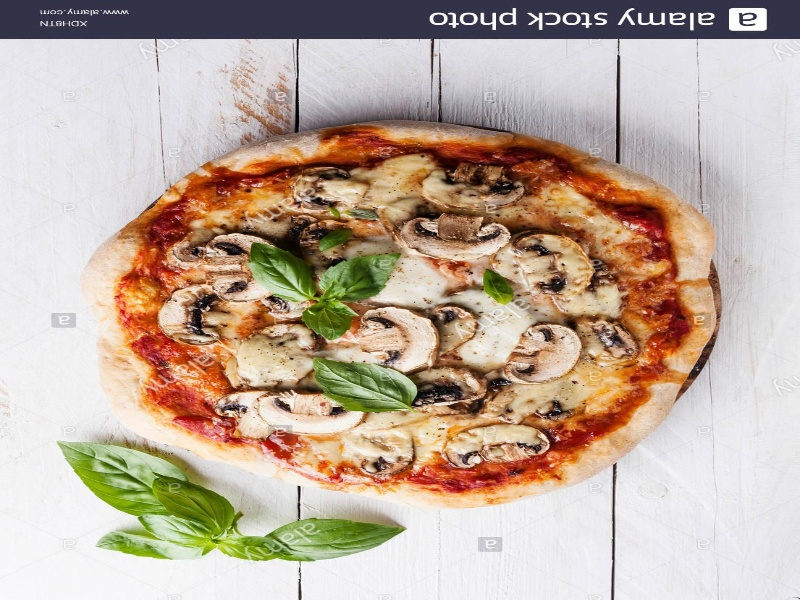champignon: (190, 228, 279, 310), (357, 304, 445, 381), (390, 211, 514, 263), (440, 422, 553, 477), (422, 162, 537, 214), (518, 232, 593, 311), (505, 323, 585, 394), (256, 390, 368, 439), (155, 282, 228, 350), (402, 363, 495, 413)
